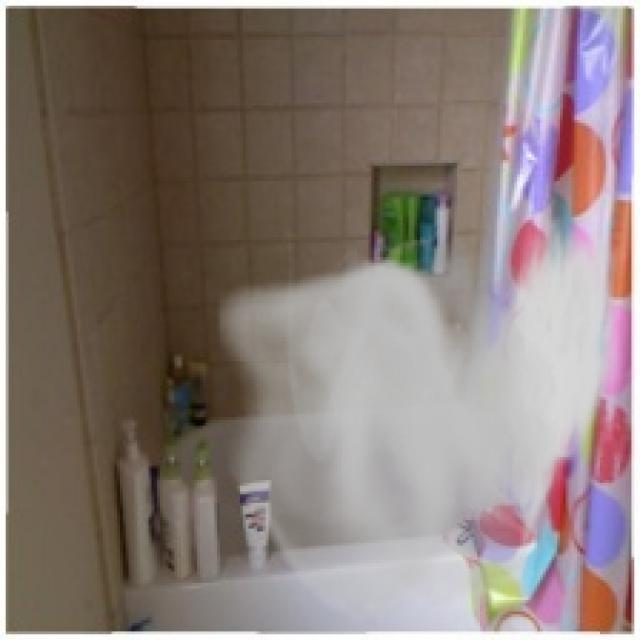Smoke: (217, 208, 626, 632)
